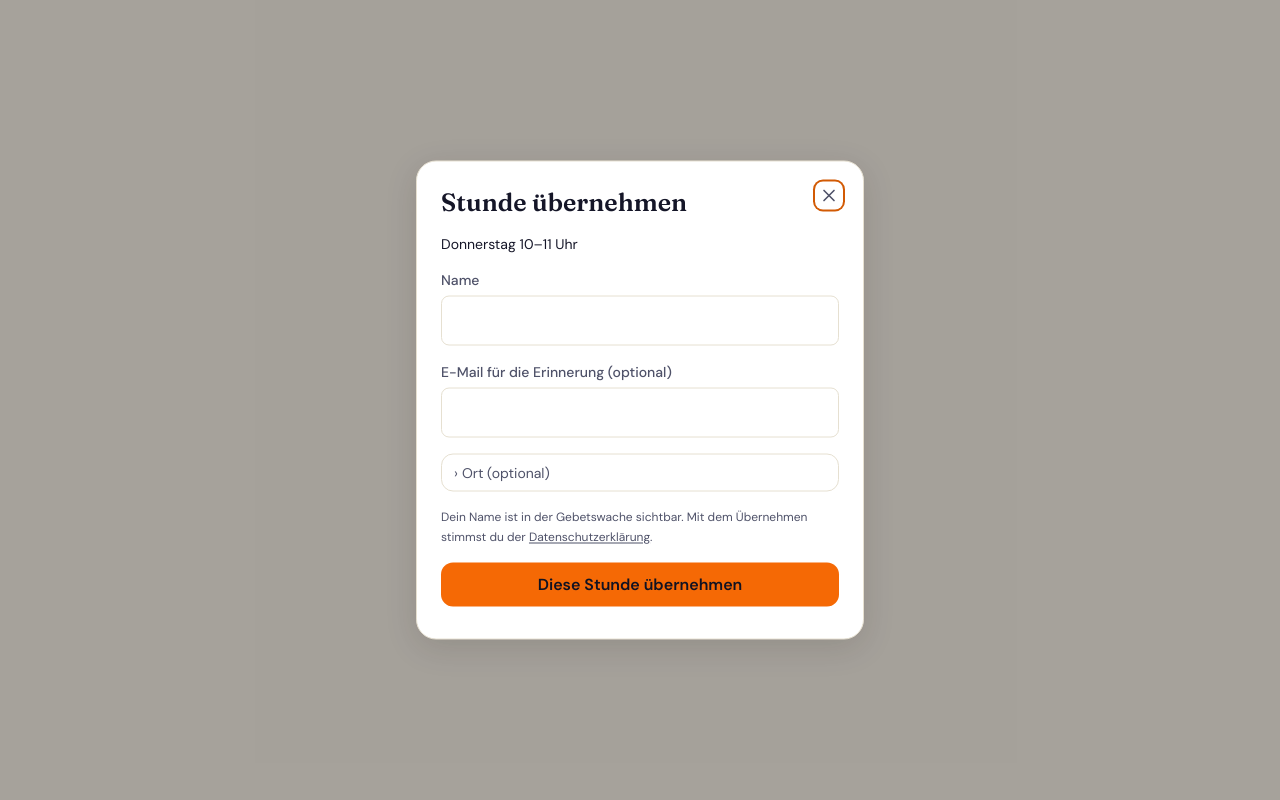
Test: SlotSheet guest-book-Modus — invite-Wiring (Review Backlog-4 F1) › PRIVATE-Projekt + invite-Prop: WhatsApp-Link im Erfolgs-Screen enthält ?invite=tok1
Type "Maria" into the field labelled "Name" at (640, 320), box [441,296,839,346]
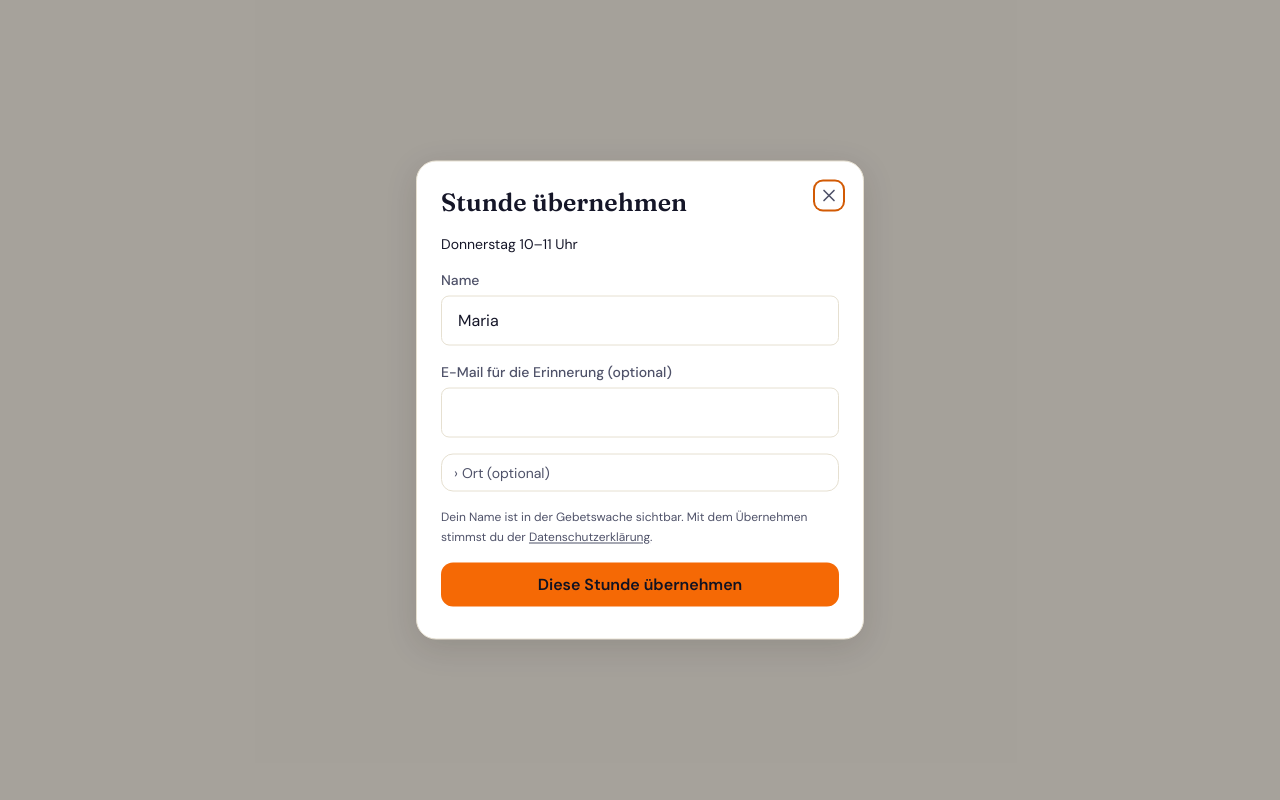
Click the button "Diese Stunde übernehmen" at (640, 584), box [441,562,839,606]
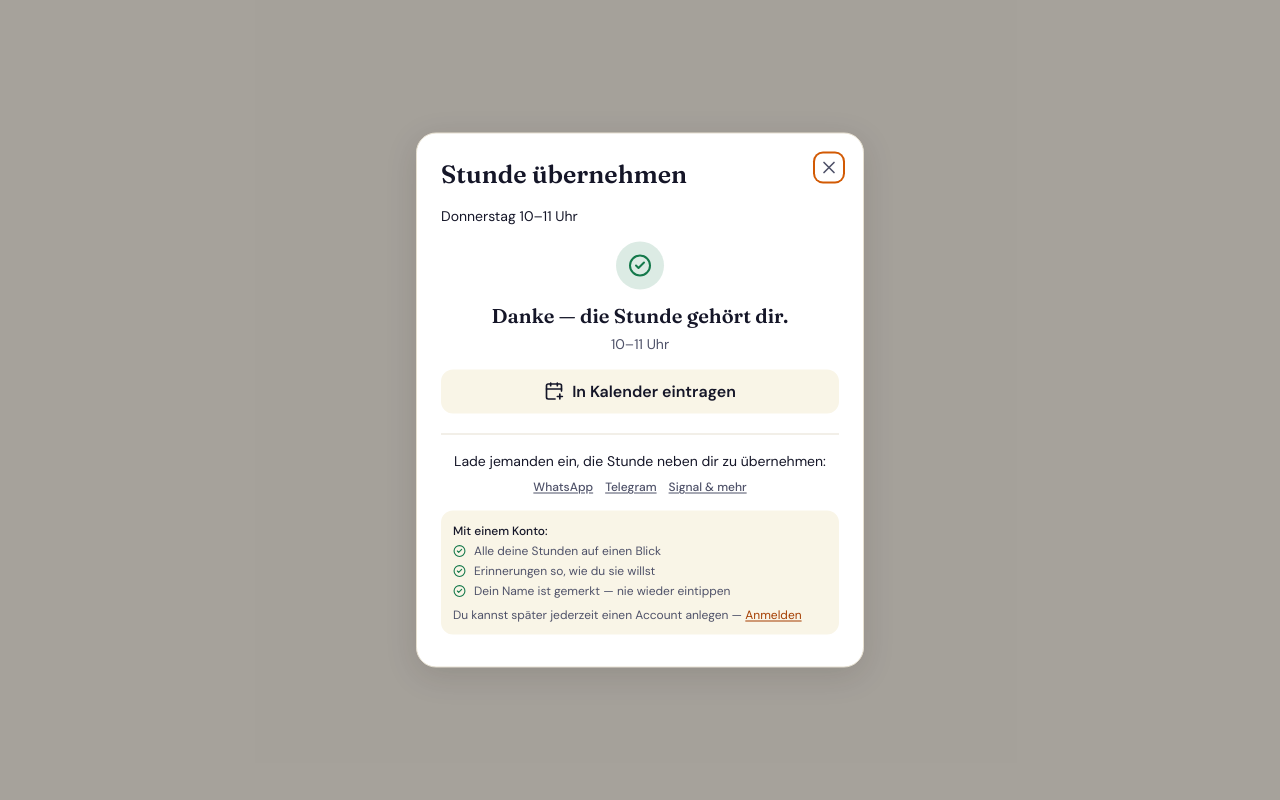
Expected: the text "Danke — die Stunde gehört dir." is shown, [492,302,788,328]
